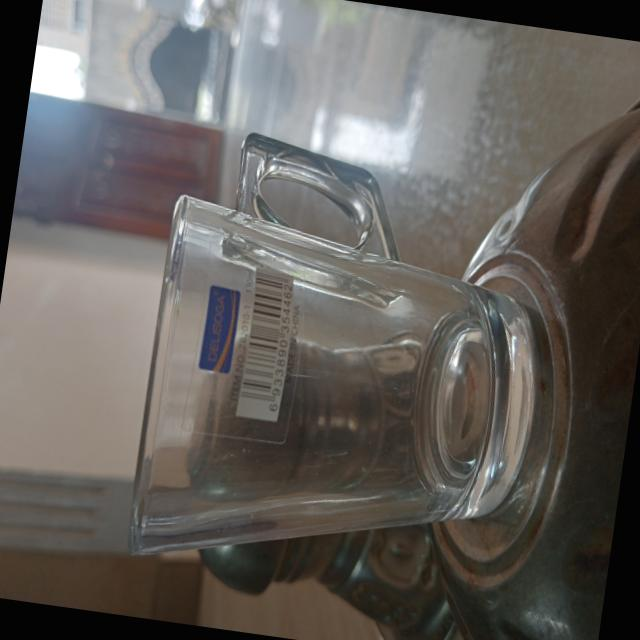glass-VX4N: (115, 116, 588, 616)
